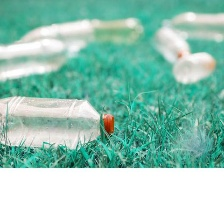bottle: (0, 93, 119, 149), (0, 36, 84, 82), (9, 16, 102, 51), (157, 8, 224, 45), (79, 12, 145, 44), (170, 48, 219, 86), (150, 25, 192, 63)
